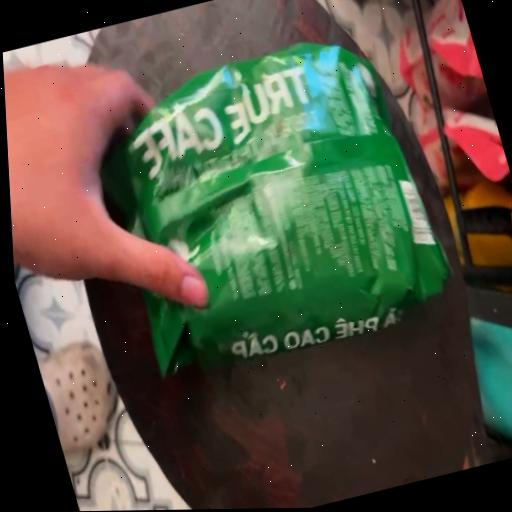cafe_xay: (102, 43, 449, 375)
